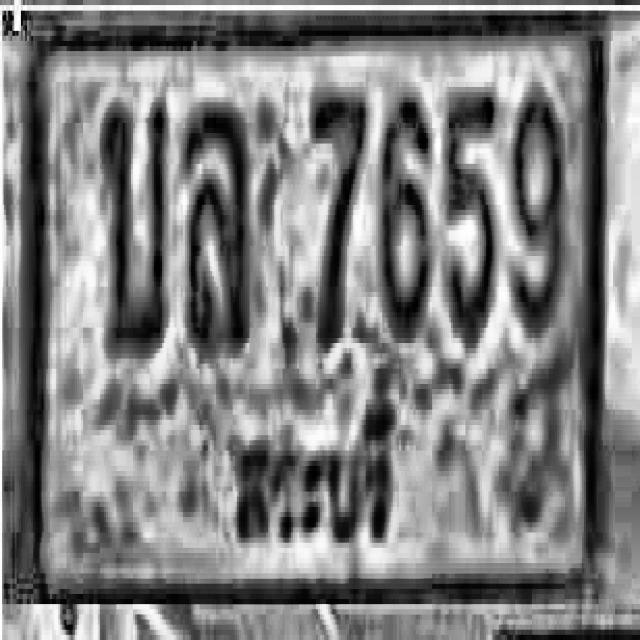license-plate: (0, 0, 626, 626)
